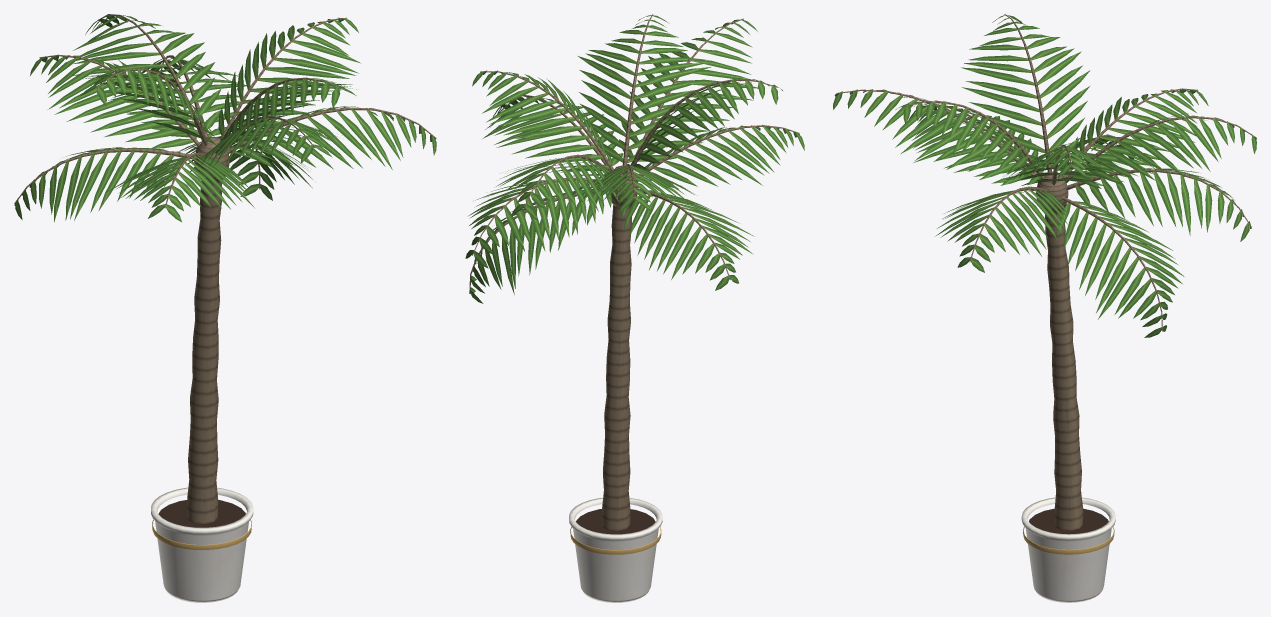
File: palm_a.glb
3 renders of one model, left to right at view 1: azimuth 30°, elevation 25°; view 2: azimuth 150°, elevation 25°; view 3: azimuth 270°, elevation 25°, orthographic. The views are drawn at different scales.
Parts seen in each view (by area): view 1: resort; view 2: resort; view 3: resort.
Part boxes in pixels (x1,y1,x2,y2): resort: [14, 14, 436, 602]; resort: [465, 14, 804, 602]; resort: [833, 14, 1256, 602].
Size of the model in its own units: 4.29 by 6.78 by 5.05.
5 materials, 3 textured.
